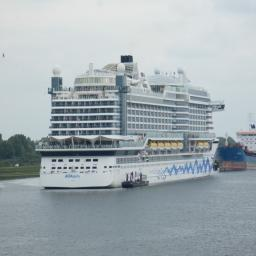cruises: (35, 44, 226, 190)
